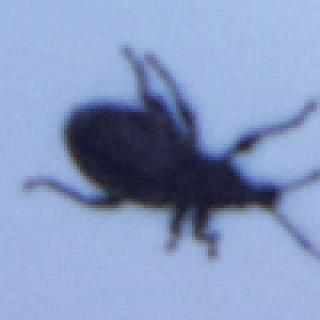bvw: (19, 43, 320, 265)
